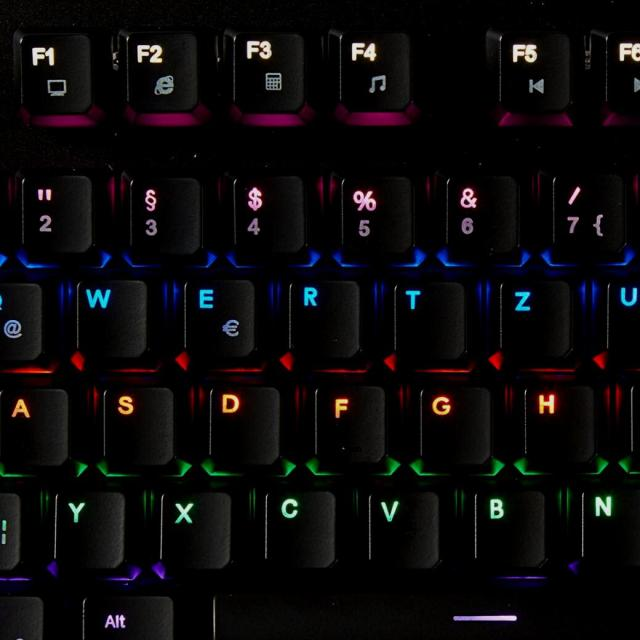2: (17, 170, 94, 261)
3: (121, 172, 204, 265)
4: (227, 170, 308, 264)
5: (335, 171, 417, 265)
6: (441, 169, 522, 265)
7: (547, 166, 627, 265)
a: (0, 381, 71, 472)
alt-left: (75, 591, 175, 640)
b: (468, 483, 549, 572)
c: (260, 483, 339, 571)
d: (203, 378, 282, 471)
e: (181, 274, 257, 360)
f: (308, 380, 388, 468)
g: (414, 379, 494, 471)
h: (518, 379, 598, 469)
n: (578, 483, 640, 569)
q: (0, 279, 44, 365)
r: (285, 275, 363, 363)
s: (97, 380, 177, 472)
space: (200, 586, 640, 640)
t: (390, 275, 468, 363)
u: (604, 274, 640, 363)
v: (363, 486, 442, 571)
w: (71, 274, 149, 360)
x: (155, 486, 234, 574)
y: (50, 485, 128, 573)
z: (494, 275, 574, 361)
